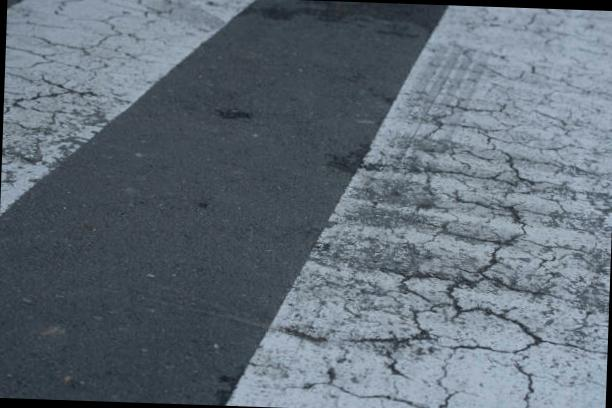faded_road_lines: (227, 7, 612, 408), (0, 0, 253, 213)
